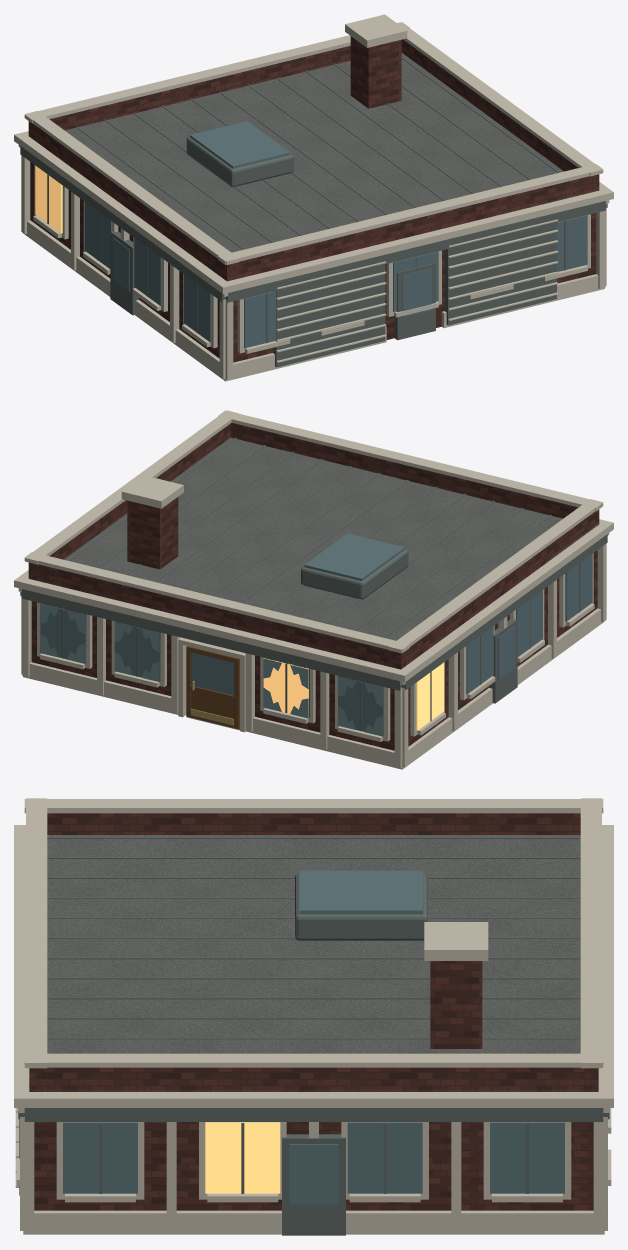
Rendered from warehouse.glb.
The picture shows the model from 3 angles, top to bottom: view 1: azimuth 30°, elevation 25°; view 2: azimuth 150°, elevation 25°; view 3: azimuth 270°, elevation 25°; orthographic projection. The views are drawn at different scales.
Visible parts, largest first — view 1: roof, foundation wing, roof tar seam, masonry wing, window pane, window pane.003; view 2: foundation wing, roof, masonry wing, roof tar seam, window pane, window pane.005, window glass remnant, door bottom rail, door glazing, window pane.006, window pane.003; view 3: roof, foundation wing, masonry wing, roof tar seam, window pane, window pane.003.
Part boxes in pixels (x1,y1,x2,y2): roof: (35,53,598,252); foundation wing: (14,14,613,381); roof tar seam: (20,57,607,367); masonry wing: (28,36,599,362); window pane: (85,121,587,348); window pane.003: (35,165,62,233); foundation wing: (14,410,613,769); roof: (28,437,598,665); masonry wing: (28,423,599,750); roof tar seam: (20,438,607,731); window pane: (304,533,592,694); window pane.005: (40,603,383,736); window glass remnant: (40,604,382,736); door bottom rail: (186,646,239,729); door glazing: (191,652,234,695); window pane.006: (263,658,308,717); window pane.003: (416,662,443,730); roof: (29,835,598,1091); foundation wing: (14,798,613,1234); masonry wing: (29,813,598,1210); roof tar seam: (18,837,609,1235); window pane: (63,870,564,1204); window pane.003: (205,1122,280,1193).
Bounding box in the file's own units: 13.65 × 5.76 × 12.65.
Materials: 10 (2 with a texture image).
